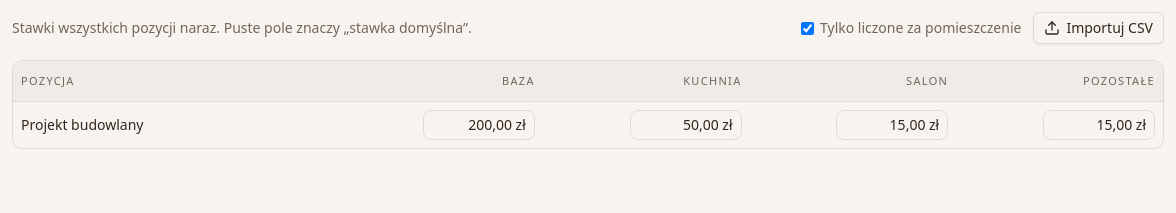
Scenario: PricingMatrixTab › po odznaczeniu filtra pokazuje cala biblioteke
What coordinates should you click on to do the following:
click the checkbox labelled "Tylko liczone za pomieszczenie"
I would click on:
 (808, 28)
Its box is [801,22,814,34].
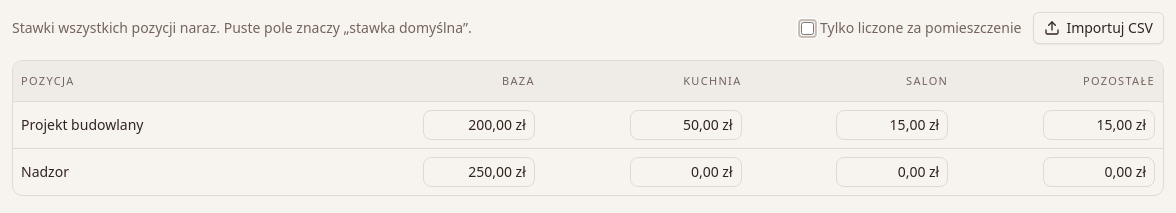
Now the text "Nadzor" is shown, box [13,148,336,194]
